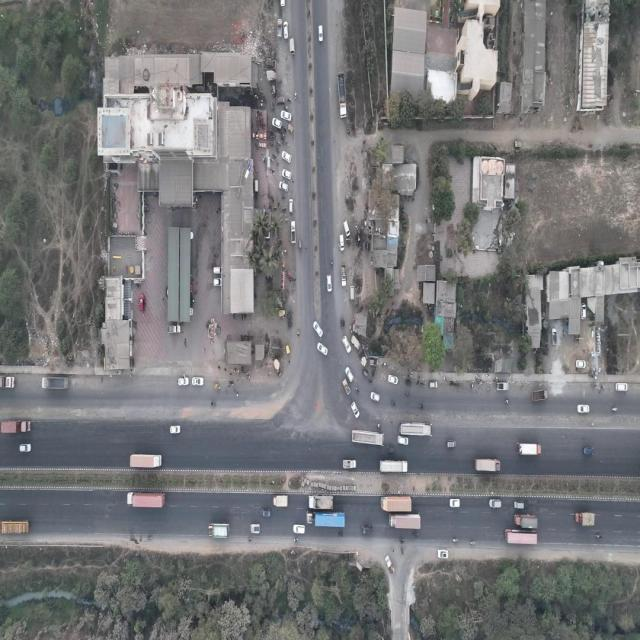3W: (285, 344, 290, 356), (288, 124, 294, 134), (287, 310, 293, 319), (279, 310, 286, 317), (388, 446, 394, 454), (298, 238, 302, 250), (362, 370, 368, 377), (288, 319, 292, 329), (406, 380, 412, 386), (341, 318, 344, 328)
Bus: (352, 429, 384, 447), (505, 529, 537, 545), (398, 422, 432, 436)
Cars: (342, 335, 351, 353), (313, 321, 323, 337), (280, 110, 292, 122), (345, 366, 354, 382), (351, 402, 360, 418), (317, 342, 328, 355), (488, 498, 502, 508), (138, 295, 146, 312), (19, 443, 32, 453), (178, 375, 189, 386), (283, 20, 289, 40), (272, 117, 282, 129), (282, 168, 292, 180), (360, 525, 372, 535), (293, 524, 305, 534), (343, 220, 350, 237), (282, 151, 292, 162), (279, 181, 289, 192), (388, 374, 398, 385), (398, 435, 409, 445), (437, 549, 448, 559), (261, 507, 271, 518), (577, 404, 589, 413), (192, 377, 204, 386), (450, 498, 460, 508), (583, 447, 594, 456), (170, 425, 181, 434), (616, 383, 628, 391), (327, 274, 332, 292), (370, 392, 380, 401), (446, 439, 456, 448), (514, 500, 524, 509), (575, 360, 586, 368), (339, 235, 344, 252), (552, 328, 557, 345), (581, 303, 586, 320), (276, 97, 286, 104), (428, 381, 438, 388), (319, 25, 323, 41), (289, 198, 293, 214), (213, 267, 222, 274), (214, 278, 221, 286), (351, 286, 354, 300)
LCV: (385, 555, 395, 575), (273, 495, 288, 507), (532, 389, 547, 400), (342, 378, 350, 395), (343, 459, 356, 469), (167, 324, 181, 333), (341, 264, 346, 287), (291, 221, 296, 244), (266, 70, 277, 80), (289, 36, 295, 54), (496, 382, 508, 390), (250, 524, 260, 533), (278, 18, 282, 38)
M2W: (380, 496, 412, 512), (389, 514, 420, 529), (1, 420, 32, 433), (210, 401, 217, 407), (271, 195, 275, 203), (412, 533, 418, 538), (596, 534, 602, 539), (405, 392, 410, 398), (376, 423, 381, 429), (272, 153, 277, 159), (356, 386, 360, 393), (338, 533, 343, 538), (453, 538, 458, 543), (147, 536, 153, 540), (247, 538, 253, 542), (399, 540, 405, 544), (611, 407, 617, 411), (283, 106, 289, 110), (294, 91, 297, 99), (401, 548, 404, 555), (297, 329, 300, 336), (294, 538, 299, 542), (470, 541, 475, 545), (419, 404, 424, 408), (282, 206, 286, 211), (281, 196, 286, 200), (331, 260, 333, 269), (270, 169, 276, 172), (286, 99, 292, 102), (278, 201, 280, 209), (272, 206, 276, 210), (391, 547, 394, 552), (392, 401, 395, 405)
MAV: (127, 492, 165, 507), (1, 520, 30, 534)
Truck: (130, 452, 162, 468), (337, 72, 347, 118), (309, 494, 333, 510), (514, 514, 538, 529), (380, 460, 408, 472), (518, 442, 542, 456), (209, 522, 230, 538), (42, 377, 68, 389), (476, 459, 500, 471), (575, 512, 594, 526)
